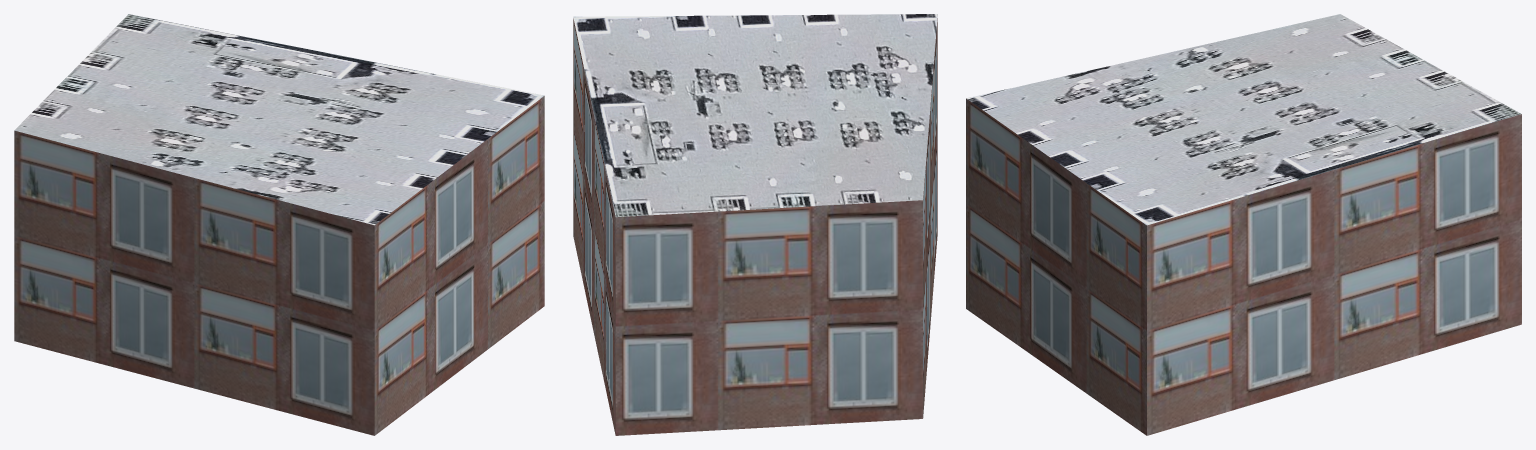
Rendered from ResTex__2519.fbx.
3 renders of one model, left to right at view 1: azimuth 30°, elevation 25°; view 2: azimuth 150°, elevation 25°; view 3: azimuth 270°, elevation 25°, orthographic. The views are drawn at different scales.
Visible parts, largest first — view 1: CityEngineMaterial_19_m, CityEngineMaterial_4_m; view 2: CityEngineMaterial_19_m, CityEngineMaterial_4_m; view 3: CityEngineMaterial_19_m, CityEngineMaterial_4_m.
Part boxes in pixels (x1,y1,x2,y2): CityEngineMaterial_19_m: (14, 96, 544, 435); CityEngineMaterial_4_m: (14, 14, 544, 225); CityEngineMaterial_19_m: (573, 18, 937, 435); CityEngineMaterial_4_m: (573, 14, 937, 217); CityEngineMaterial_19_m: (966, 98, 1521, 435); CityEngineMaterial_4_m: (966, 14, 1521, 225).
Size of the model in its own units: 12.93 by 6 by 14.36.
2 materials, 2 textured.
